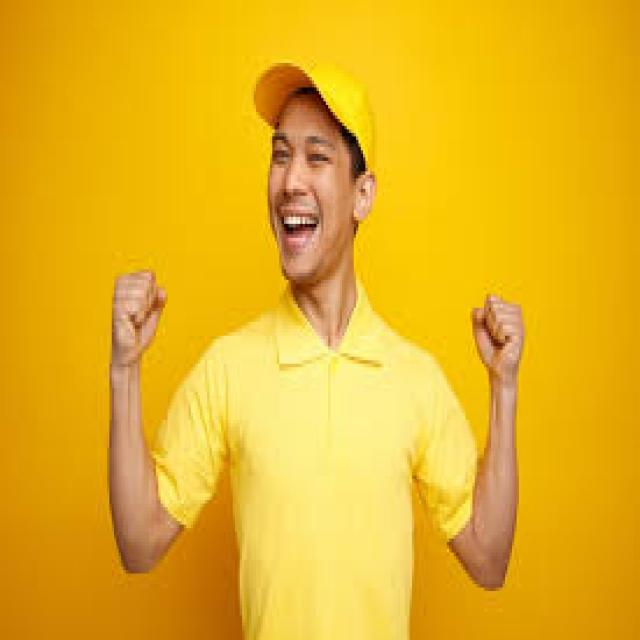3_gorra: (252, 56, 380, 174)
